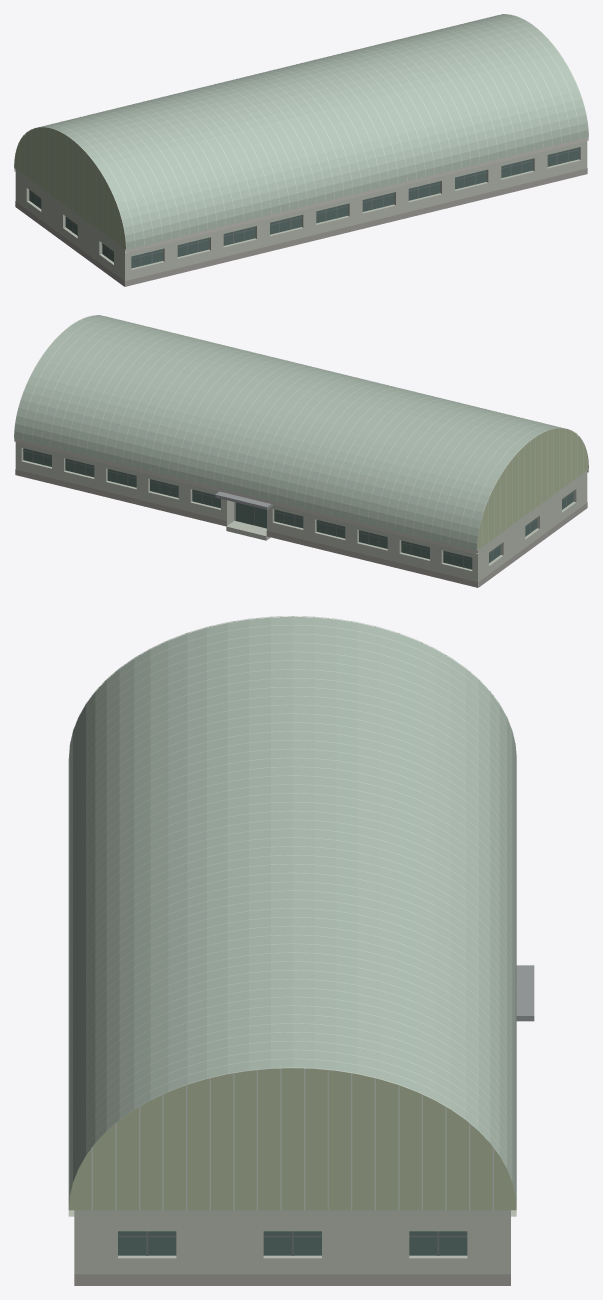
The picture shows the model from 3 angles, top to bottom: view 1: azimuth 30°, elevation 25°; view 2: azimuth 150°, elevation 25°; view 3: azimuth 270°, elevation 25°; orthographic projection. The views are drawn at different scales.
Parts seen in each view (by area): view 1: gym__vaultRoof, gym__wall, gym__roofMetal, gym__vaultEnd, gym__glass, gym__base, gym__trim, gym__frame; view 2: gym__vaultRoof, gym__wall, gym__roofMetal, gym__vaultEnd, gym__glass, gym__base, gym__trim, gym__frame, gym__entranceThreshold_0, gym__canopy; view 3: gym__vaultRoof, gym__vaultEnd, gym__roofMetal, gym__wall, gym__base, gym__glass, gym__canopy.
Part boxes in pixels (x1=…): gym__vaultRoof: x1=39, y1=14, x2=588, y2=249; gym__wall: x1=15, y1=141, x2=587, y2=286; gym__roofMetal: x1=14, y1=14, x2=588, y2=249; gym__vaultEnd: x1=14, y1=127, x2=125, y2=249; gym__glass: x1=29, y1=147, x2=579, y2=268; gym__base: x1=15, y1=168, x2=587, y2=286; gym__trim: x1=14, y1=137, x2=588, y2=253; gym__frame: x1=29, y1=149, x2=579, y2=265; gym__vaultRoof: x1=14, y1=315, x2=563, y2=550; gym__wall: x1=15, y1=442, x2=587, y2=587; gym__roofMetal: x1=14, y1=315, x2=588, y2=550; gym__vaultEnd: x1=477, y1=428, x2=588, y2=550; gym__glass: x1=23, y1=448, x2=573, y2=569; gym__base: x1=15, y1=469, x2=587, y2=587; gym__trim: x1=14, y1=438, x2=588, y2=554; gym__frame: x1=23, y1=450, x2=573, y2=567; gym__entranceThreshold_0: x1=226, y1=520, x2=270, y2=540; gym__canopy: x1=215, y1=491, x2=272, y2=509; gym__vaultRoof: x1=68, y1=616, x2=516, y2=1208; gym__vaultEnd: x1=69, y1=1068, x2=516, y2=1210; gym__roofMetal: x1=68, y1=616, x2=516, y2=1210; gym__wall: x1=74, y1=1210, x2=510, y2=1274; gym__base: x1=74, y1=1274, x2=510, y2=1285; gym__glass: x1=118, y1=1231, x2=467, y2=1255; gym__canopy: x1=516, y1=965, x2=534, y2=1021.
Bounding box in the file's own units: 46.38 × 10.83 × 20.17.
